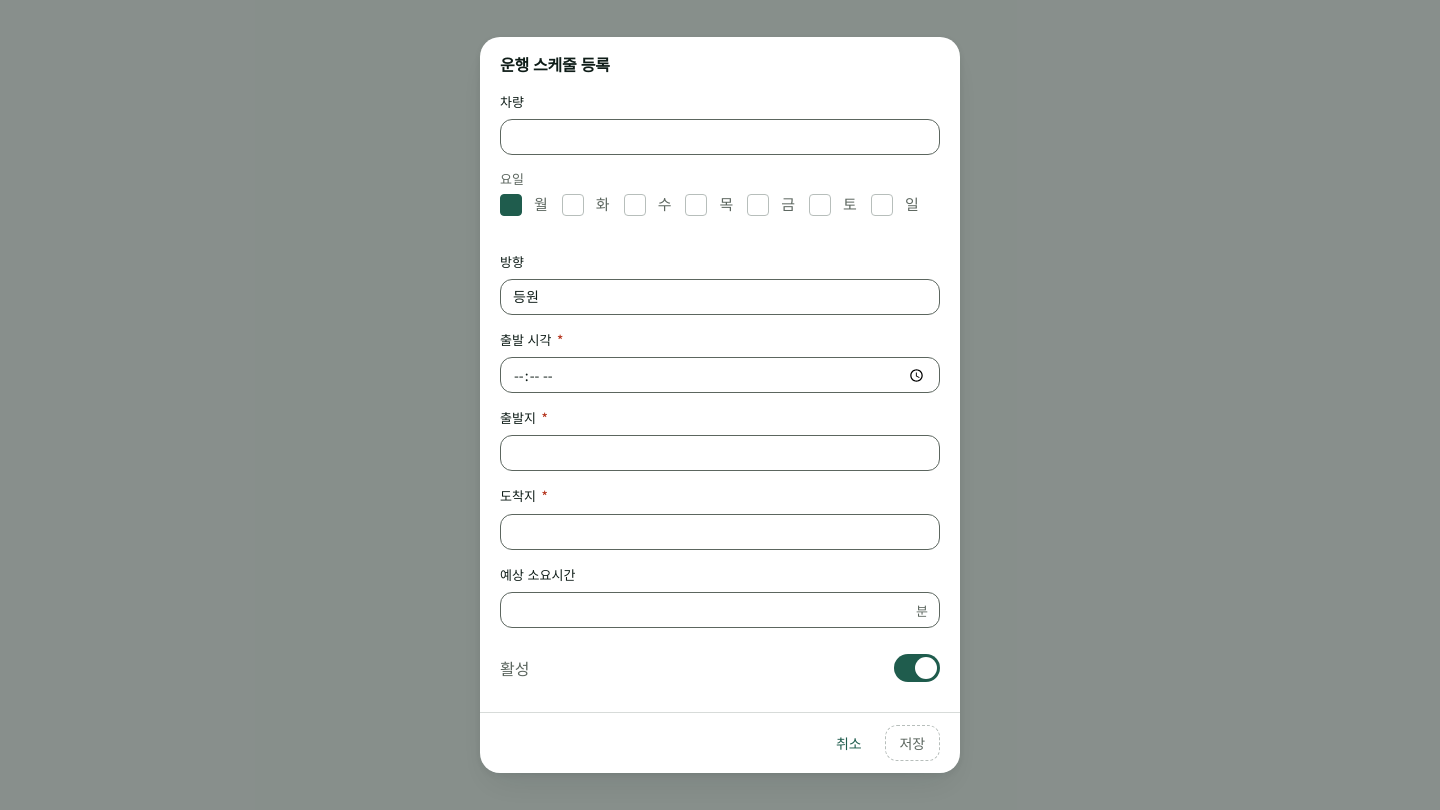
ScheduleForm — 요일 여러 개 한 번에 › 한 요일이 이미 있으면 그 요일만 실패로 보이고 나머지는 저장된다
Expected: the number of fields is 2, 500,436 -> 940,472; 500,514 -> 940,550
Type "08:00" into the time field labelled "출발 시각 *".
click(720, 375); type("08:00")  # box 500,357 -> 940,393
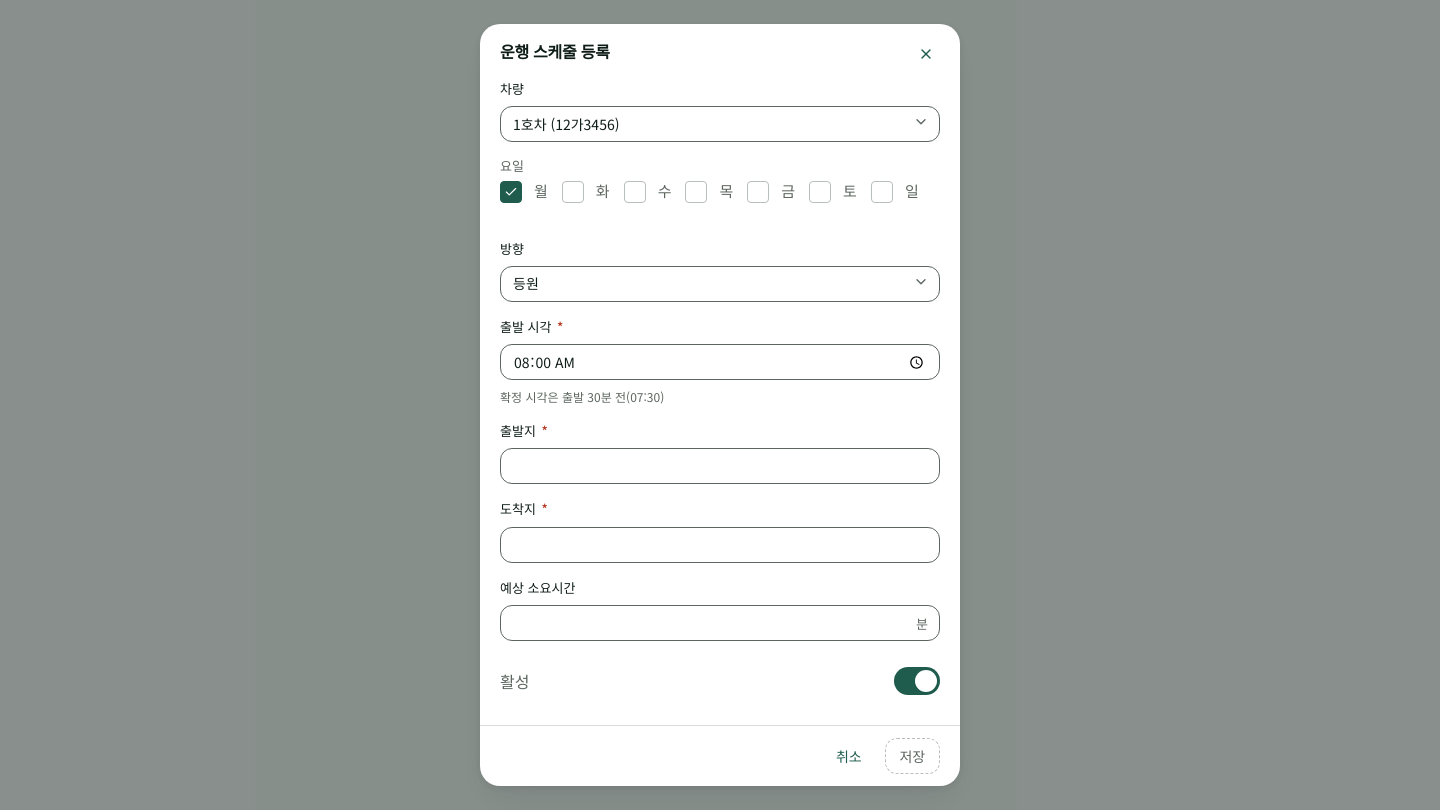
Type "정문" into the field labelled "출발지 *".
click(720, 466); type("정문")  # box 500,448 -> 940,484
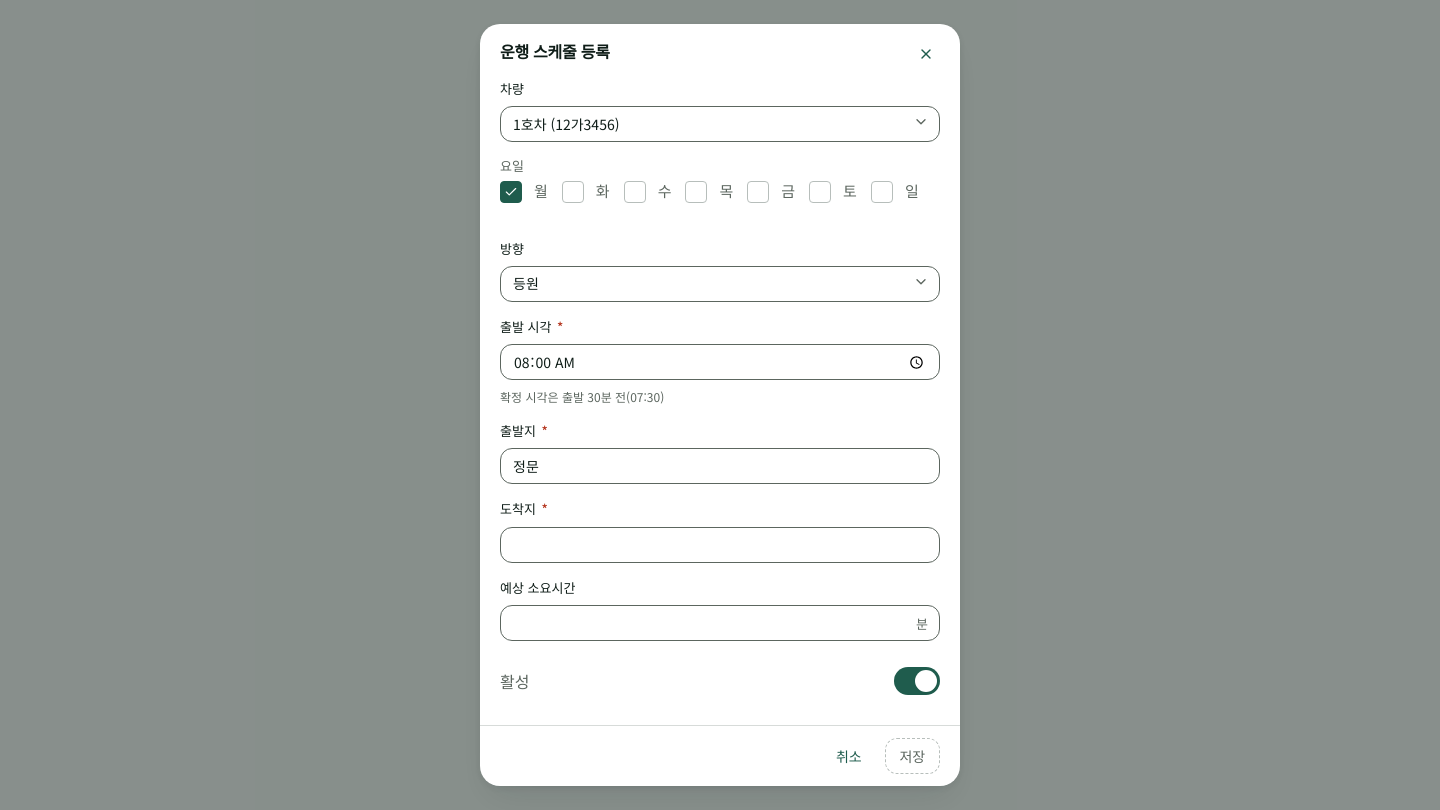
Type "학원" into the field labelled "도착지 *".
click(720, 545); type("학원")  # box 500,527 -> 940,563
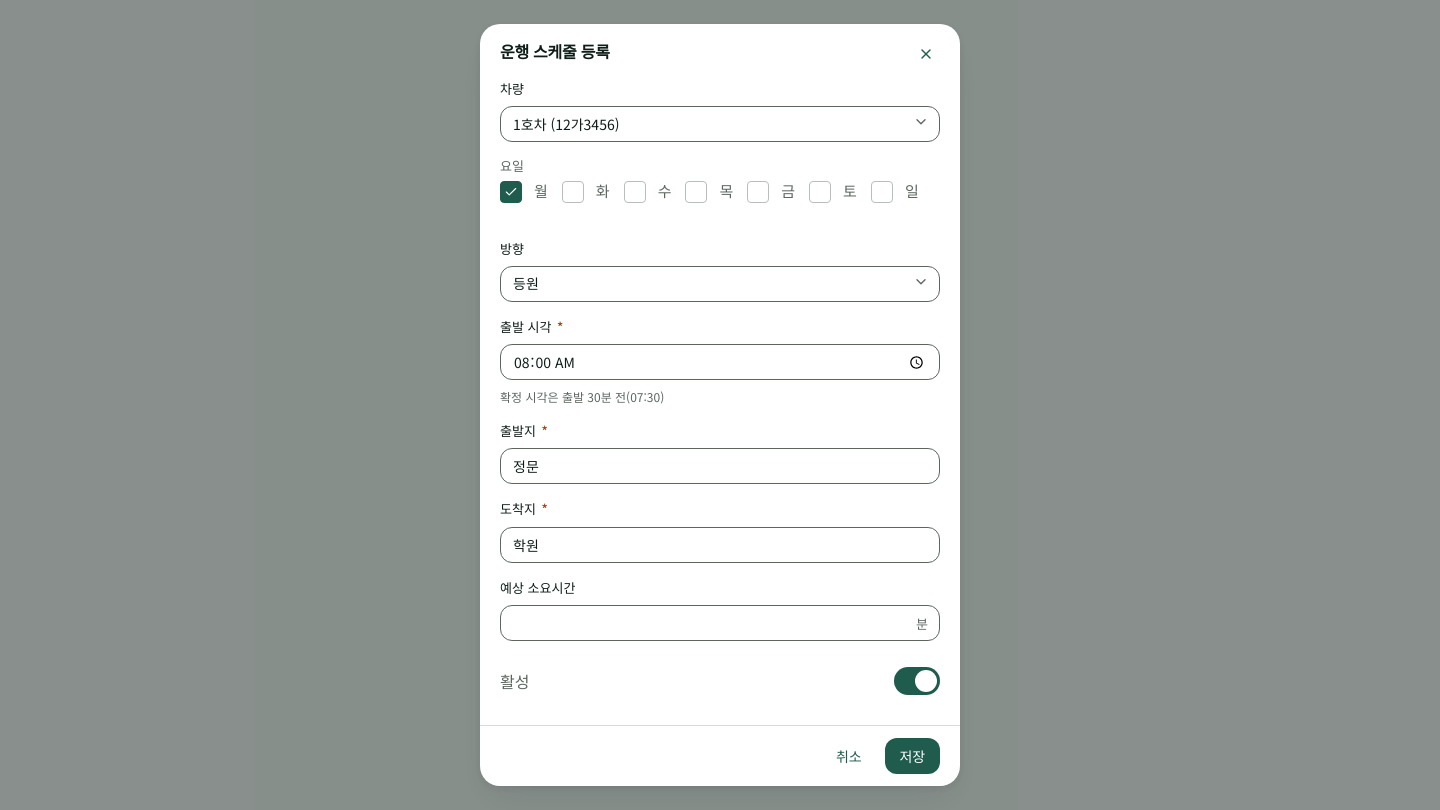
Click the checkbox labelled "화".
click(586, 191)  # box 562,180 -> 610,203
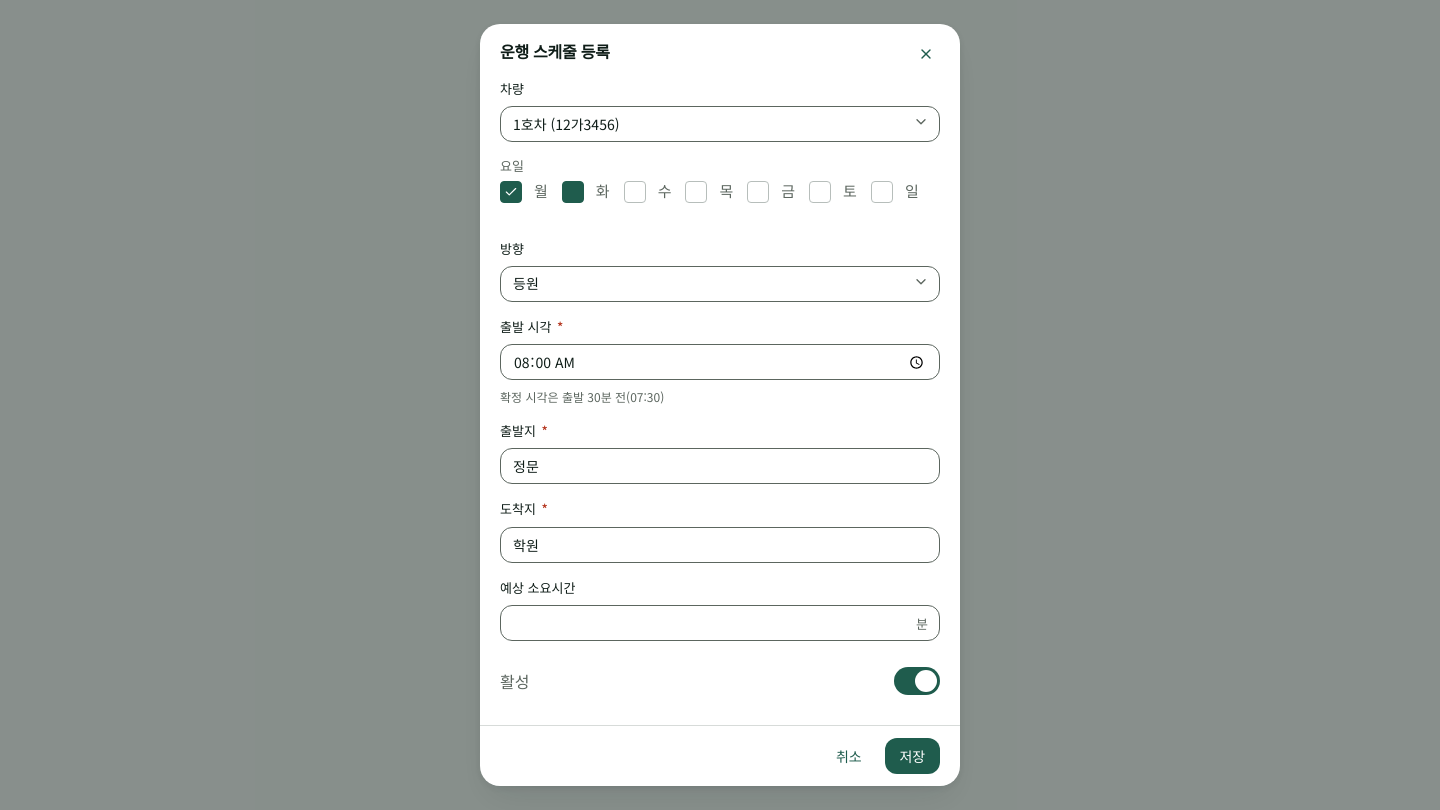
Click the checkbox labelled "수".
click(648, 191)  # box 624,180 -> 671,203
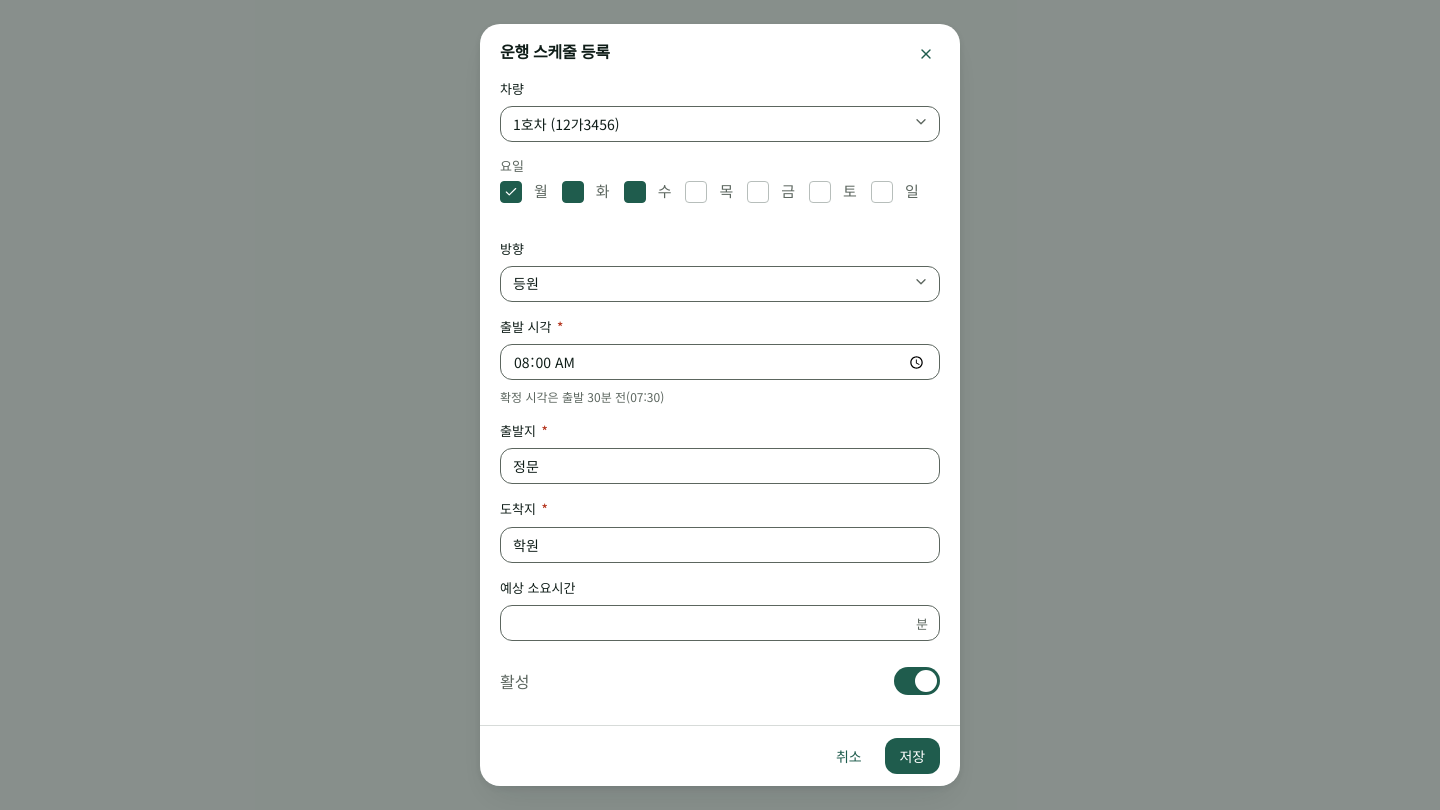
Click the button "저장".
click(912, 756)  # box 884,738 -> 940,774
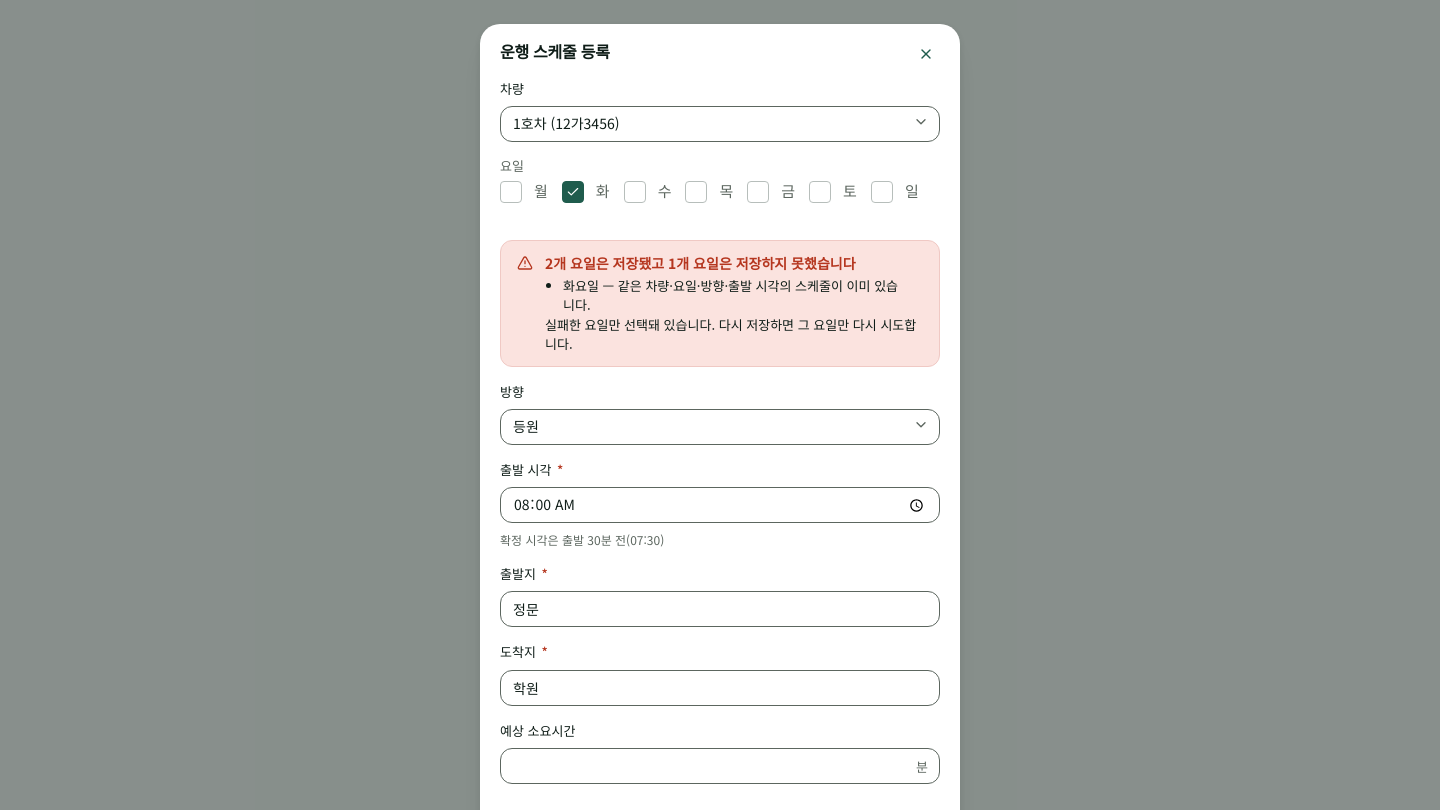
Expected: the list item "화요일 — 같은 차량·요일·방향·출발 시각의 스케줄이 이미 있습니다." is shown, 563,276 -> 923,315
